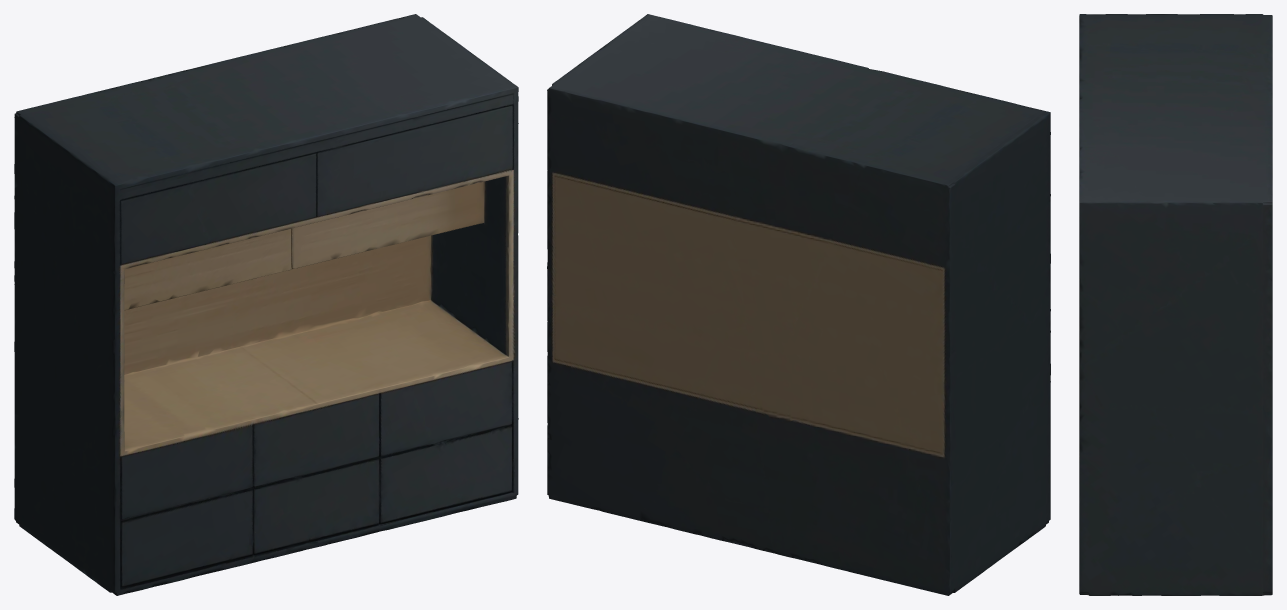
The picture shows the model from 3 angles, left to right: view 1: azimuth 30°, elevation 25°; view 2: azimuth 150°, elevation 25°; view 3: azimuth 270°, elevation 25°; orthographic projection. The views are drawn at different scales.
Parts seen in each view (by area): view 1: tripo_node_62d2babc-d025-47ac-b18b-1d5189e4ae69; view 2: tripo_node_62d2babc-d025-47ac-b18b-1d5189e4ae69; view 3: tripo_node_62d2babc-d025-47ac-b18b-1d5189e4ae69.
Part boxes in pixels (bbox=[...]): tripo_node_62d2babc-d025-47ac-b18b-1d5189e4ae69: bbox=[14, 14, 518, 595]; tripo_node_62d2babc-d025-47ac-b18b-1d5189e4ae69: bbox=[547, 14, 1050, 595]; tripo_node_62d2babc-d025-47ac-b18b-1d5189e4ae69: bbox=[1079, 14, 1272, 595].
Bounding box in the file's own units: 1.23 × 1.2 × 0.5317.
Materials: 1 (1 with a texture image).
